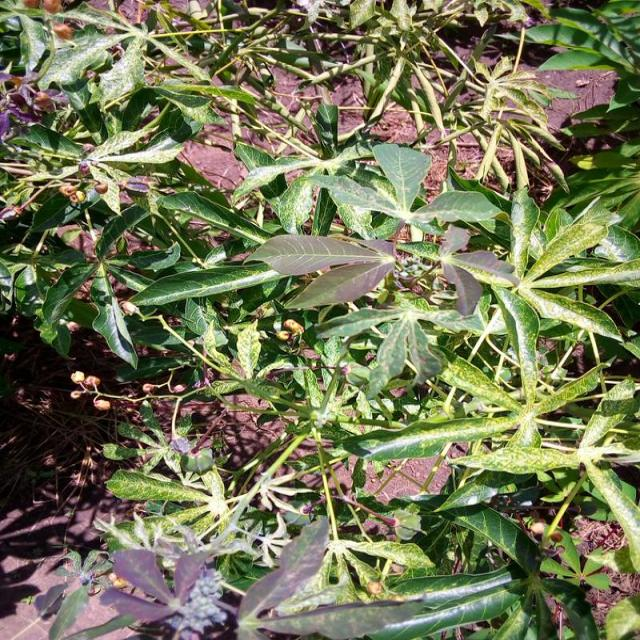cassava leaf: (244, 232, 396, 310)
